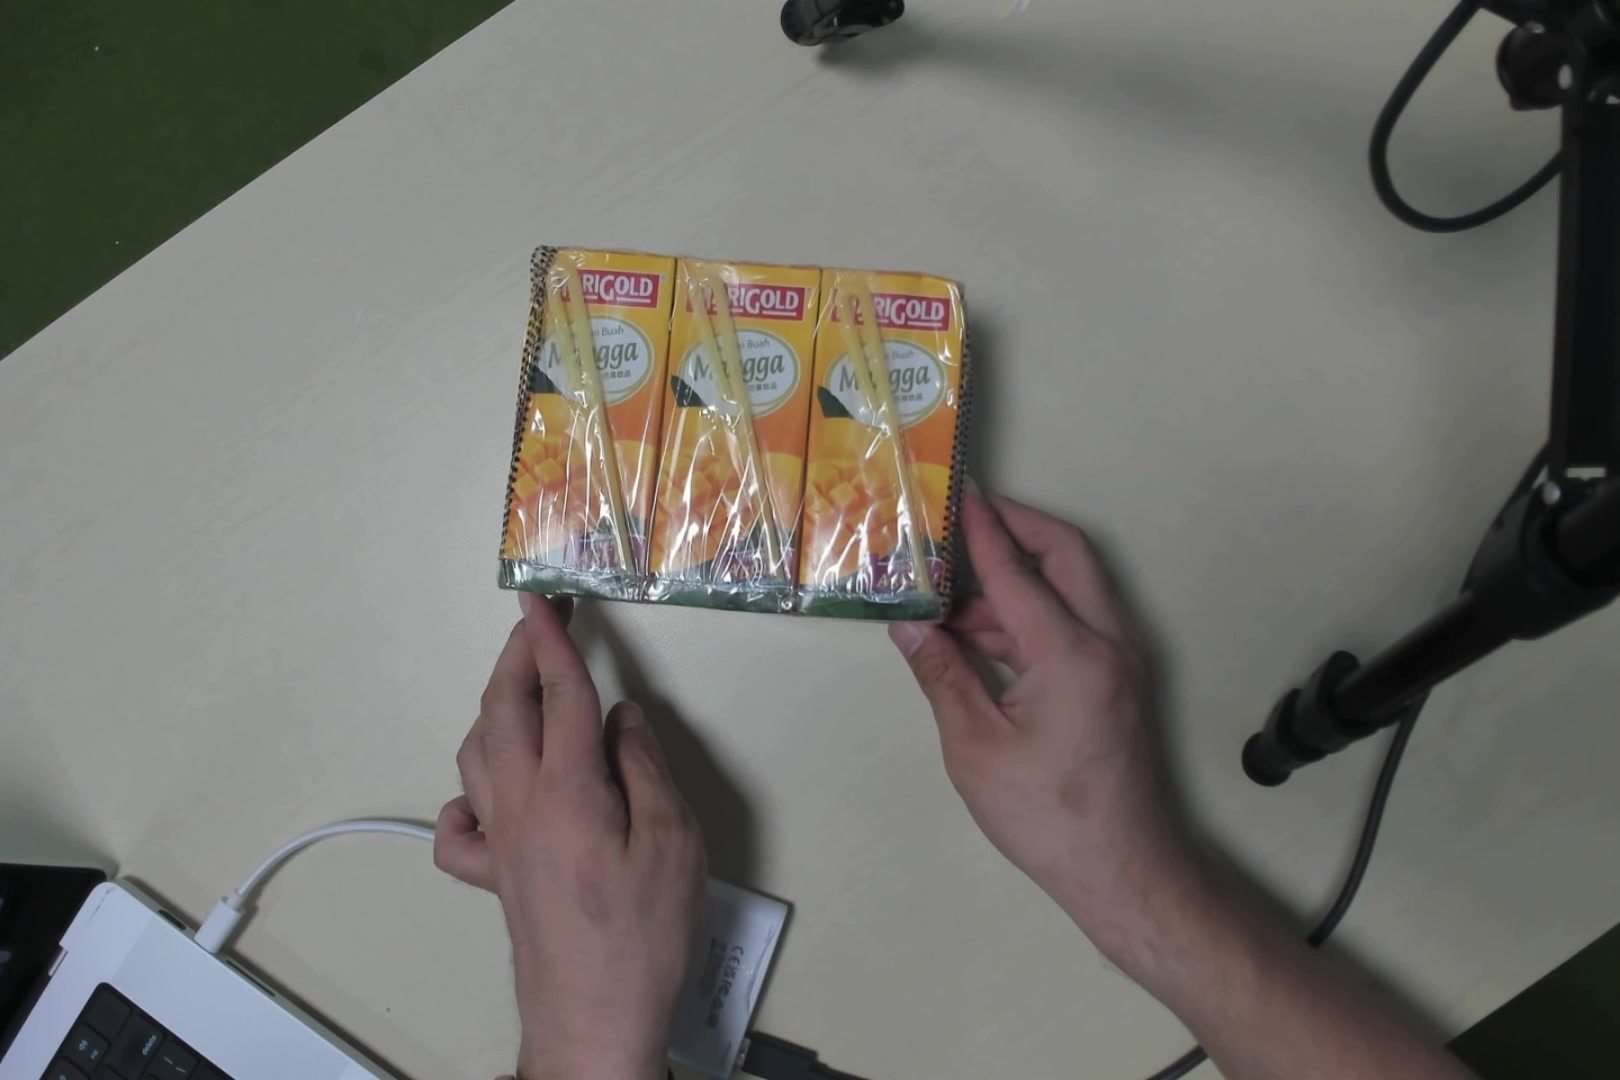FruitJuice_700-799g_Halal_NonHealthy: (511, 219, 937, 614)
